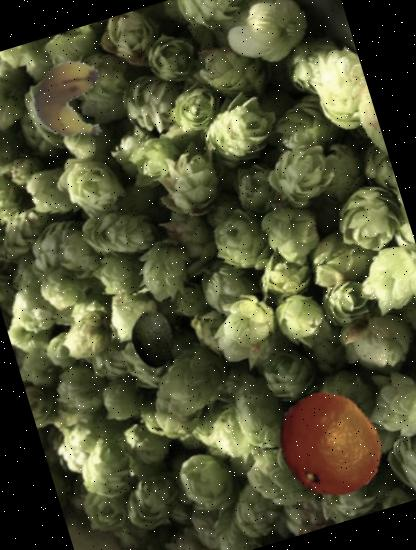Avocado: (116, 303, 188, 375)
Banana: (25, 50, 125, 150)
Clementine: (258, 372, 400, 514)
